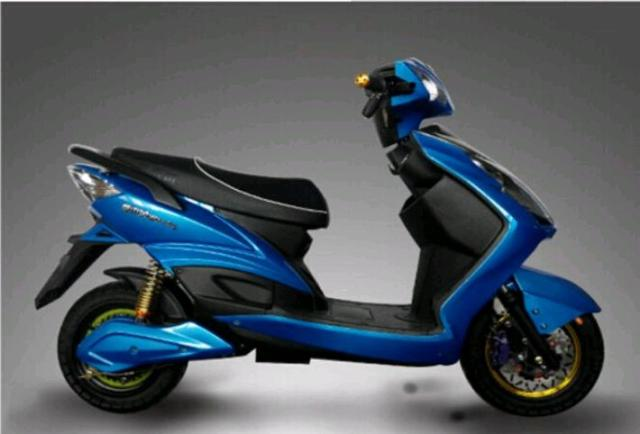电动车: (36, 47, 629, 426)
